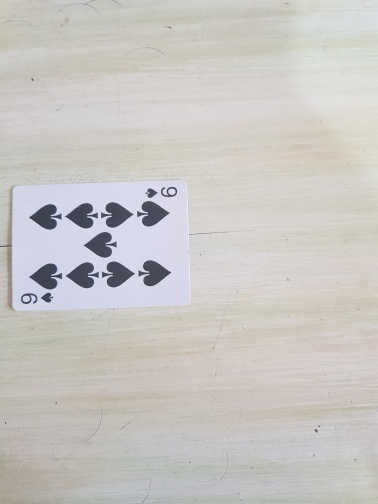nine: (10, 179, 193, 312)
